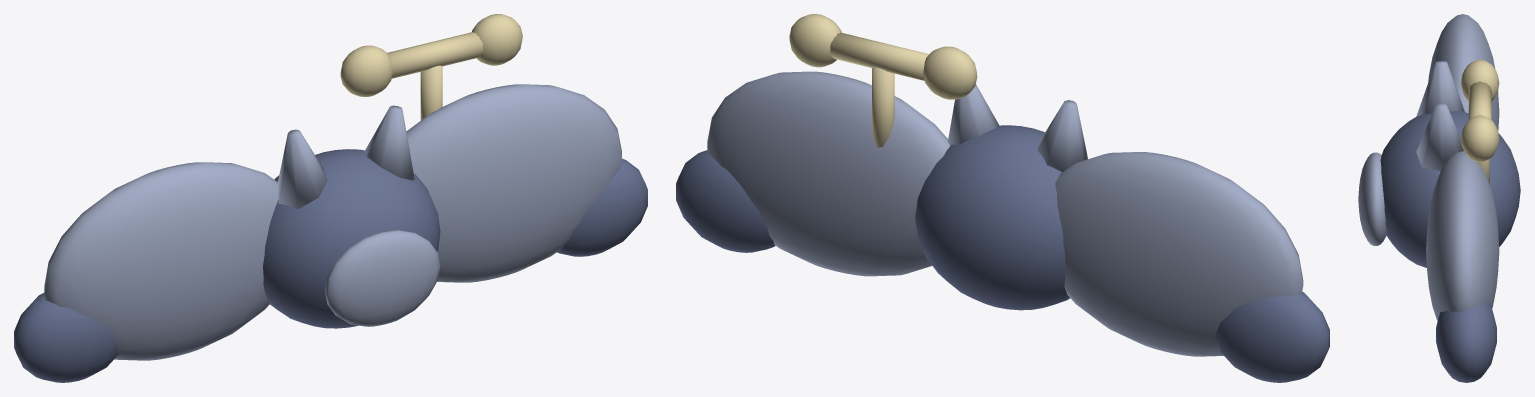
Rendered from windup-bat.glb.
3 renders of one model, left to right at view 1: azimuth 30°, elevation 25°; view 2: azimuth 150°, elevation 25°; view 3: azimuth 270°, elevation 25°, orthographic. The views are drawn at different scales.
Visible parts, largest first — view 1: Wing_L, Wing_R, Body, Belly, WingTip_L, WingTip_R, Ear_L, KeyBar, Ear_R, KeyKnob_L, KeyKnob_R, KeyStem; view 2: Wing_L, Wing_R, Body, WingTip_L, WingTip_R, KeyBar, Ear_L, KeyKnob_L, KeyKnob_R, Ear_R, KeyStem; view 3: Wing_R, Body, WingTip_R, Wing_L, Belly, Ear_R, Ear_L, KeyKnob_R, KeyKnob_L, KeyBar.
Boxes of the visible parts, bbox=[...] form: Wing_L: bbox=[44, 162, 278, 360]; Wing_R: bbox=[406, 84, 621, 282]; Body: bbox=[263, 149, 440, 328]; Belly: bbox=[324, 230, 440, 326]; WingTip_L: bbox=[14, 293, 118, 382]; WingTip_R: bbox=[557, 158, 647, 256]; Ear_L: bbox=[277, 129, 327, 208]; KeyBar: bbox=[387, 32, 483, 78]; Ear_R: bbox=[364, 105, 414, 180]; KeyKnob_L: bbox=[340, 45, 392, 96]; KeyKnob_R: bbox=[472, 14, 522, 65]; KeyStem: bbox=[420, 65, 442, 120]; Wing_L: bbox=[1055, 152, 1303, 356]; Wing_R: bbox=[707, 71, 949, 276]; Body: bbox=[915, 125, 1069, 310]; WingTip_L: bbox=[1215, 292, 1329, 382]; WingTip_R: bbox=[676, 150, 775, 252]; KeyBar: bbox=[830, 32, 929, 80]; Ear_L: bbox=[1037, 100, 1087, 172]; KeyKnob_L: bbox=[923, 46, 977, 99]; KeyKnob_R: bbox=[789, 14, 841, 67]; Ear_R: bbox=[948, 84, 999, 145]; KeyStem: bbox=[872, 67, 894, 147]; Wing_R: bbox=[1426, 151, 1499, 320]; Body: bbox=[1380, 110, 1520, 267]; WingTip_R: bbox=[1436, 301, 1496, 382]; Wing_L: bbox=[1428, 14, 1499, 131]; Belly: bbox=[1358, 152, 1386, 245]; Ear_R: bbox=[1416, 102, 1463, 171]; Ear_L: bbox=[1416, 60, 1464, 116]; KeyKnob_R: bbox=[1460, 115, 1499, 161]; KeyKnob_L: bbox=[1461, 59, 1499, 101]; KeyBar: bbox=[1468, 81, 1491, 119].
Bounding box in the file's own units: 1.66 × 0.635 × 0.42.
